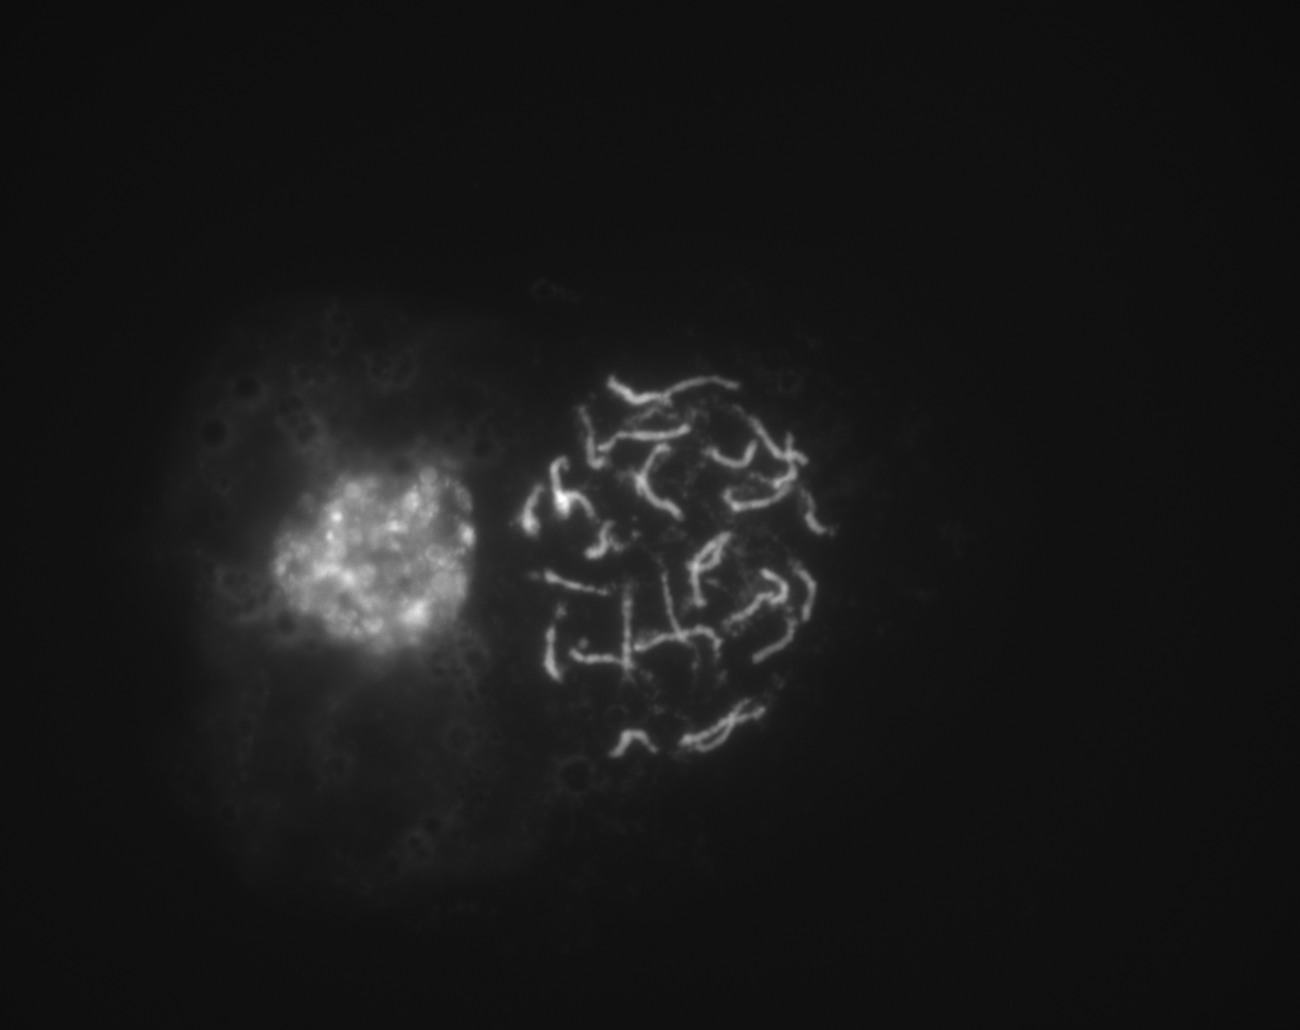Chromosomes: (451, 319, 863, 821)
Others: (160, 382, 500, 690)
